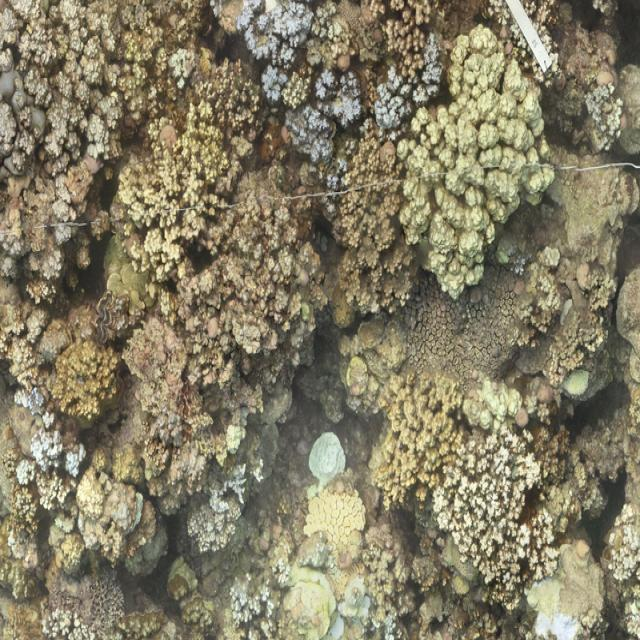Bleached Coral: (244, 0, 312, 91), (375, 41, 446, 124), (292, 70, 356, 162), (24, 413, 74, 469)
